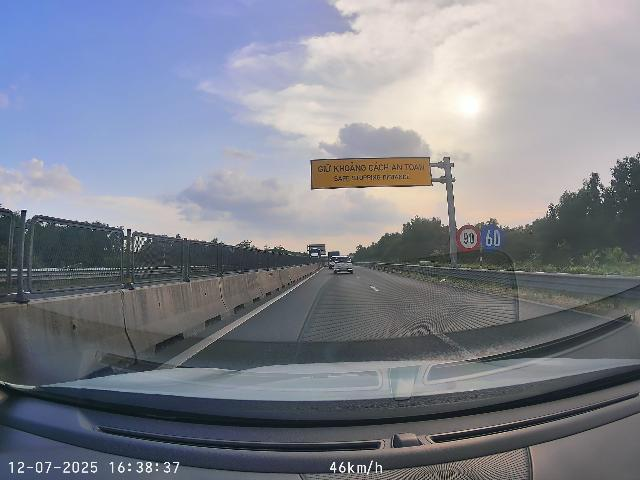127-toc-do-toi-da-90: (456, 224, 481, 252)
306-toc-do-toi-thieu-60: (481, 225, 504, 251)
